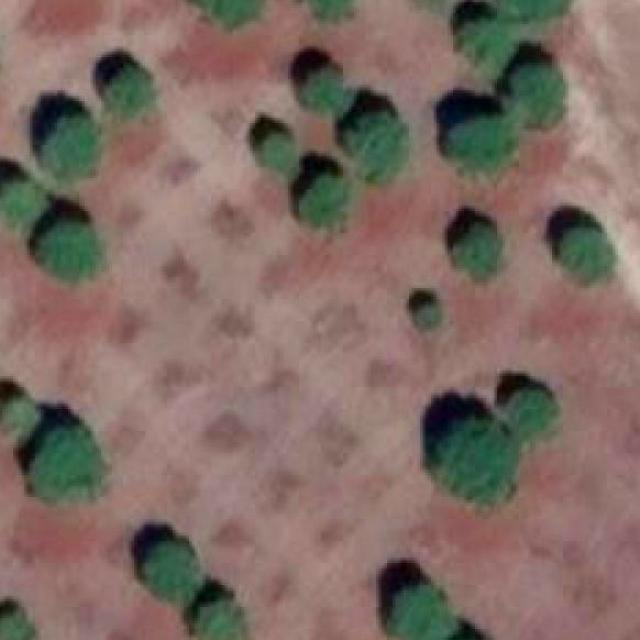Tree: (19, 420, 109, 508), (440, 418, 521, 506), (343, 107, 408, 179), (40, 214, 104, 282), (451, 106, 518, 168), (557, 216, 616, 282), (45, 115, 105, 176), (390, 585, 456, 640), (137, 541, 198, 600), (508, 66, 566, 126), (502, 387, 562, 442), (98, 63, 160, 114), (462, 17, 518, 68), (294, 62, 348, 108), (195, 594, 248, 640), (458, 222, 504, 273), (0, 178, 44, 231), (303, 176, 347, 224), (253, 134, 301, 174), (293, 0, 363, 23), (198, 0, 266, 23), (499, 0, 576, 20), (412, 294, 450, 332), (0, 398, 36, 435), (0, 609, 33, 640), (414, 0, 452, 14)
